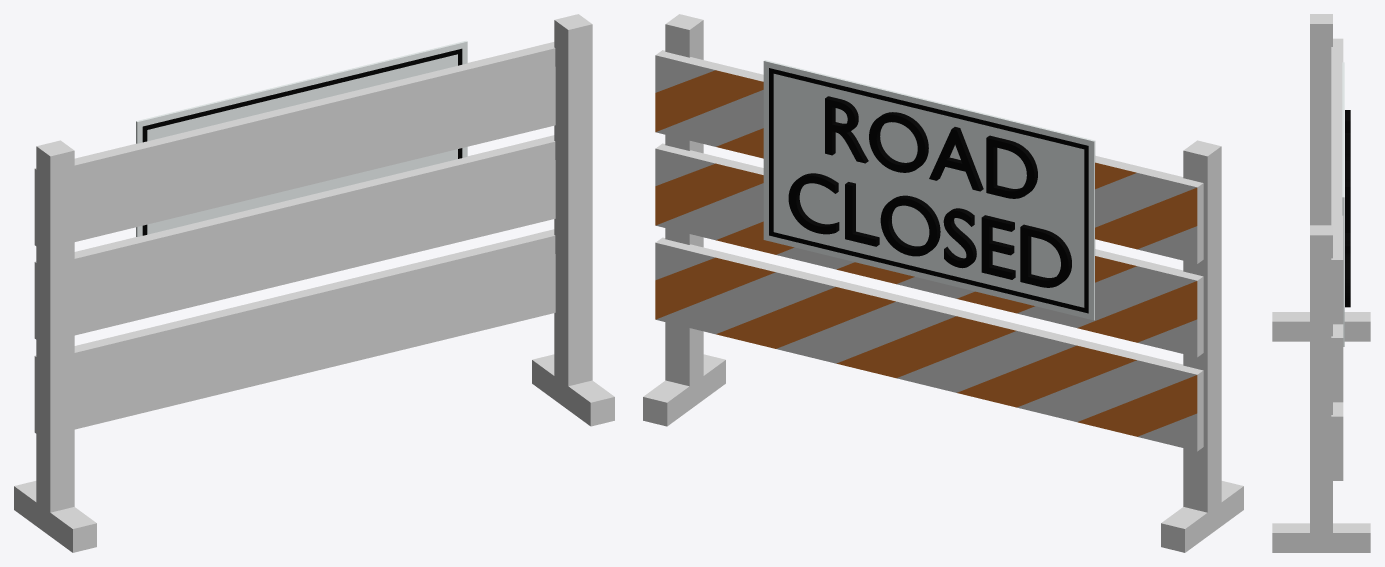
Rendered from ropadclosed.fbx.
3 views of the same model, side by side, from view 1: azimuth 30°, elevation 25°; view 2: azimuth 150°, elevation 25°; view 3: azimuth 270°, elevation 25° (orthographic). The views are drawn at different scales.
Visible parts, largest first — view 1: road closed obstacle; view 2: road closed obstacle; view 3: road closed obstacle.
Part boxes in pixels (x1,y1,x2,y2): road closed obstacle: (14, 14, 614, 552); road closed obstacle: (643, 14, 1243, 552); road closed obstacle: (1272, 14, 1370, 552).
Size of the model in its own units: 422 by 281 by 78.64.
